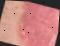plaque psoriasis: (12, 1, 60, 46)
